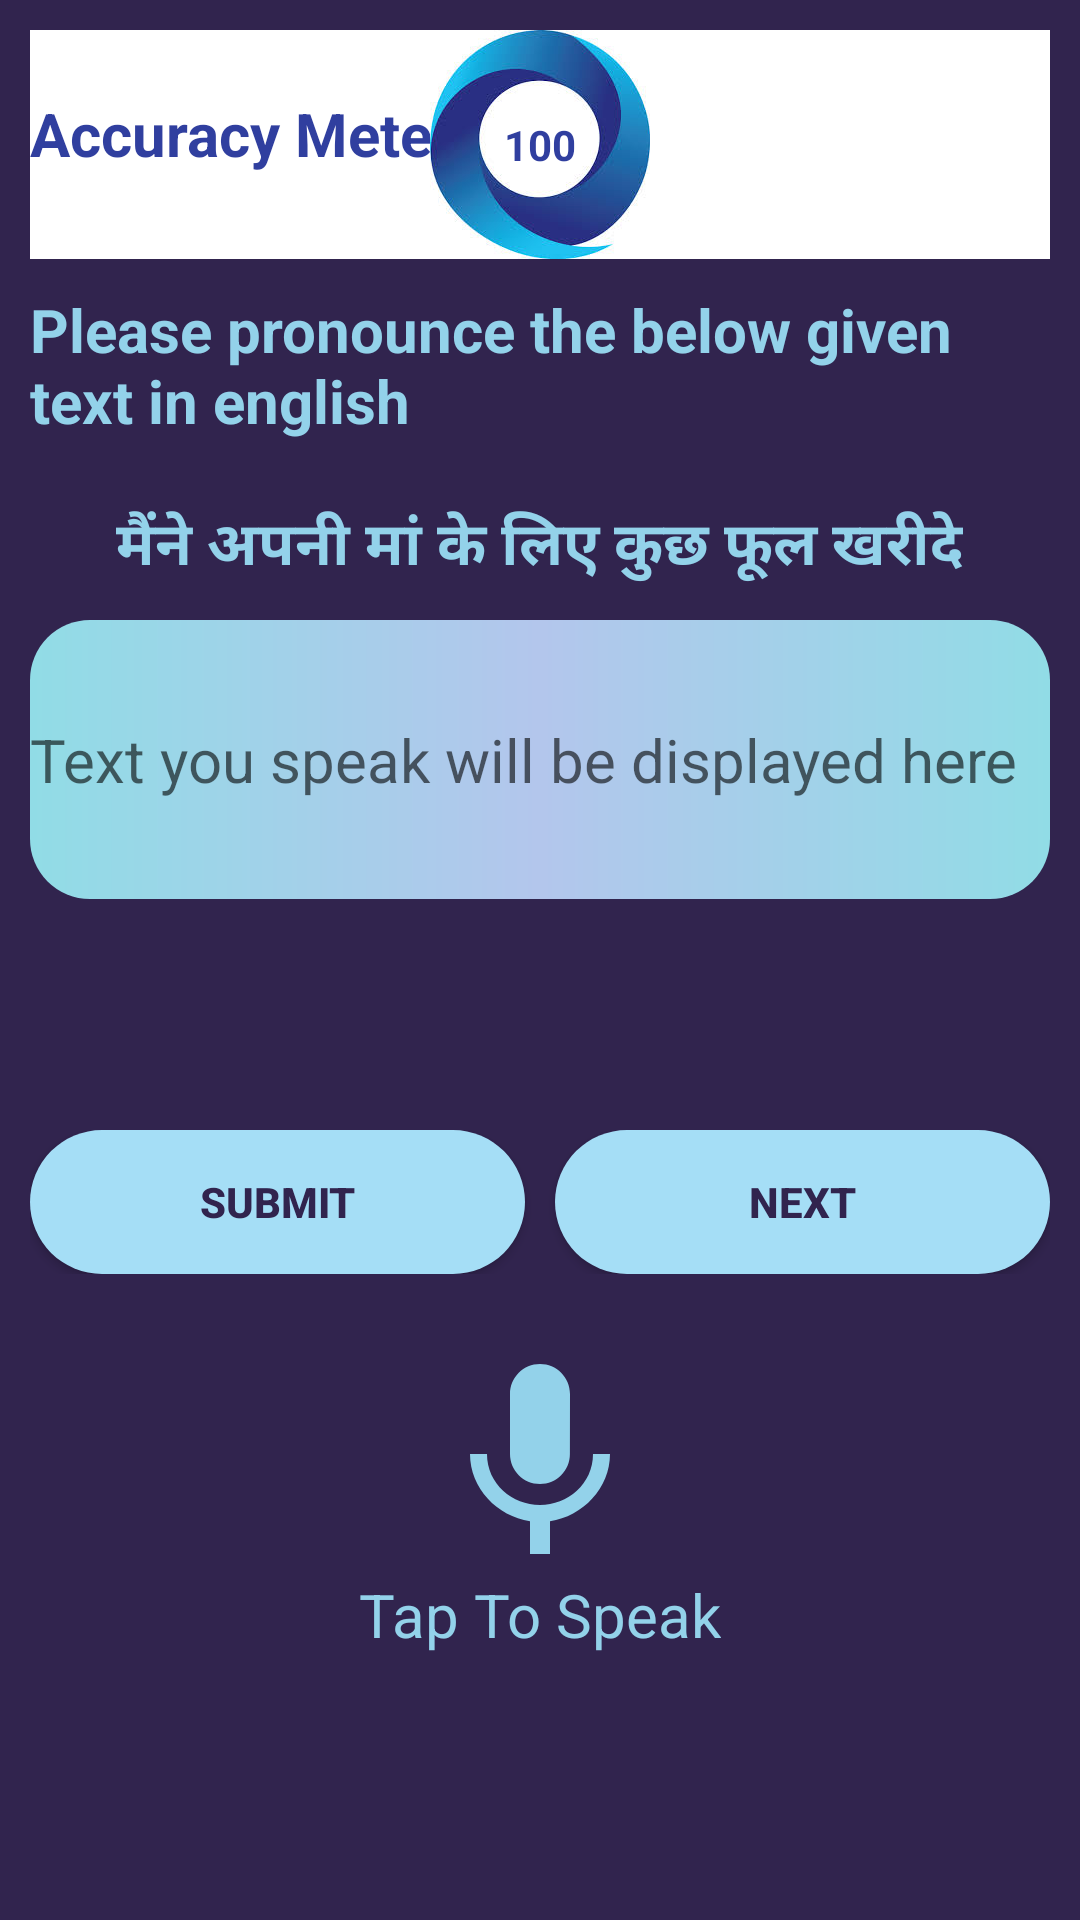

Icon click points for this 1080 x 1920 phone screenshot, format point (x, y):
keyboard voice: point (540, 1459)
